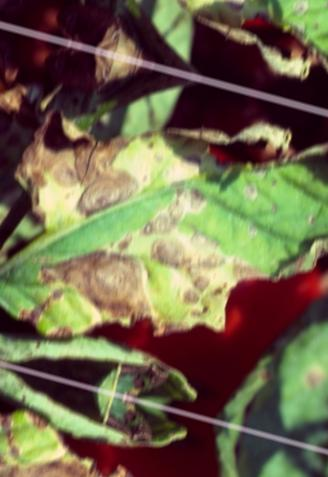Tomato Early blight leaf: (0, 30, 328, 404)
